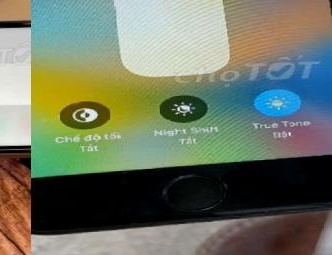scratch: (210, 190, 332, 221)
